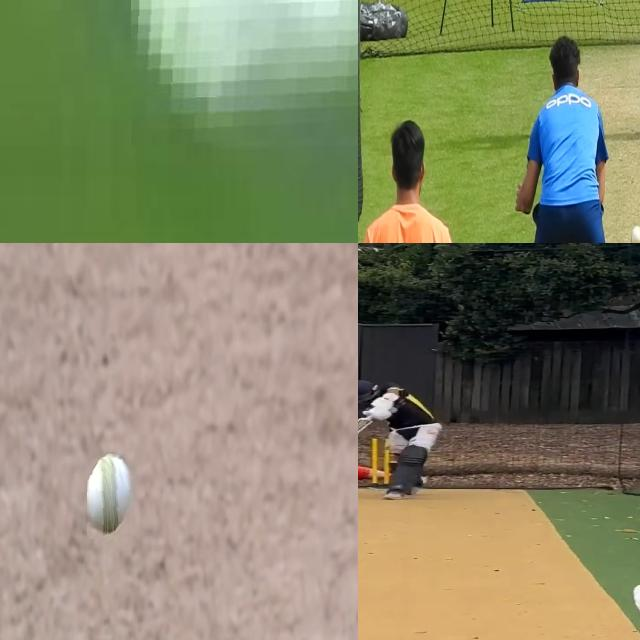Cricket ball: (130, 0, 358, 147), (87, 449, 136, 539), (630, 220, 640, 243)
